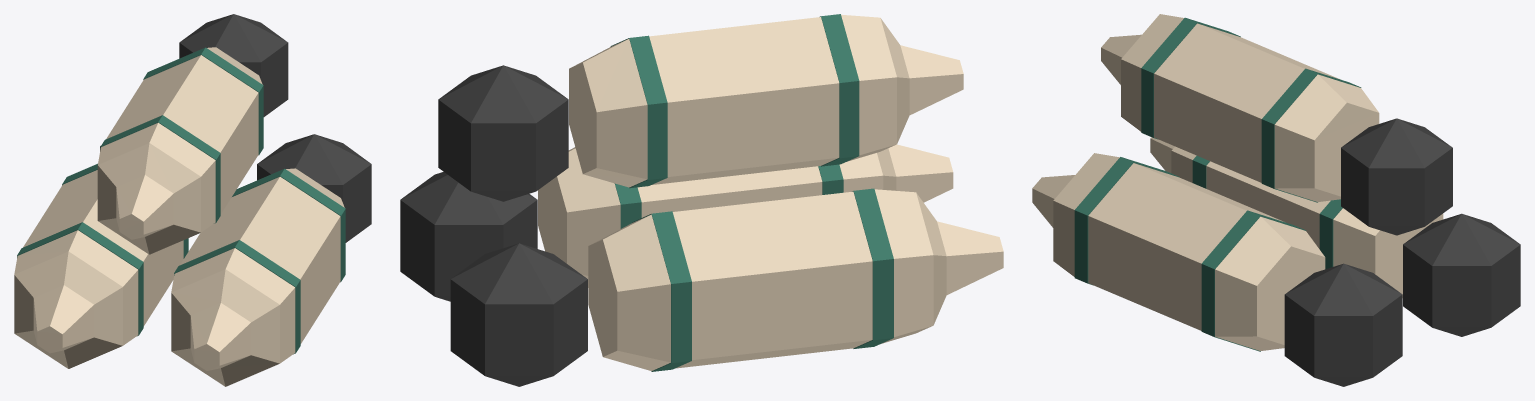
File: ce_ammo2_powder_inc_b.obj
3 renders of one model, left to right at view 1: azimuth 30°, elevation 25°; view 2: azimuth 150°, elevation 25°; view 3: azimuth 270°, elevation 25°, orthographic. The views are drawn at different scales.
Visible parts, largest first — view 1: ce_ammo2_powder_inc_b_12, ce_ammo2_powder_inc_b_20, ce_ammo2_powder_inc_b_9, ce_ammo2_powder_inc_b_1, ce_ammo2_powder_inc_b_17, ce_ammo2_powder_inc_b_15, ce_ammo2_powder_inc_b_4, ce_ammo2_powder_inc_b_23, ce_ammo2_powder_inc_b_10, ce_ammo2_powder_inc_b_2, ce_ammo2_powder_inc_b_0, ce_ammo2_powder_inc_b_8 (+10 smaller); view 2: ce_ammo2_powder_inc_b_4, ce_ammo2_powder_inc_b_20, ce_ammo2_powder_inc_b_7, ce_ammo2_powder_inc_b_23, ce_ammo2_powder_inc_b_15, ce_ammo2_powder_inc_b_6, ce_ammo2_powder_inc_b_22, ce_ammo2_powder_inc_b_14, ce_ammo2_powder_inc_b_2, ce_ammo2_powder_inc_b_12, ce_ammo2_powder_inc_b_18, ce_ammo2_powder_inc_b_3 (+12 smaller); view 3: ce_ammo2_powder_inc_b_12, ce_ammo2_powder_inc_b_20, ce_ammo2_powder_inc_b_15, ce_ammo2_powder_inc_b_7, ce_ammo2_powder_inc_b_23, ce_ammo2_powder_inc_b_14, ce_ammo2_powder_inc_b_22, ce_ammo2_powder_inc_b_6, ce_ammo2_powder_inc_b_4, ce_ammo2_powder_inc_b_10, ce_ammo2_powder_inc_b_18, ce_ammo2_powder_inc_b_11 (+9 smaller).
Boxes of the visible parts, x1,y1,x2,y2 form: ce_ammo2_powder_inc_b_12: (180, 177, 340, 343); ce_ammo2_powder_inc_b_20: (106, 55, 258, 213); ce_ammo2_powder_inc_b_9: (171, 269, 279, 386); ce_ammo2_powder_inc_b_1: (14, 251, 122, 368); ce_ammo2_powder_inc_b_17: (97, 143, 200, 254); ce_ammo2_powder_inc_b_15: (257, 134, 371, 242); ce_ammo2_powder_inc_b_4: (23, 170, 183, 326); ce_ammo2_powder_inc_b_23: (179, 14, 288, 116); ce_ammo2_powder_inc_b_10: (171, 248, 295, 363); ce_ammo2_powder_inc_b_2: (14, 230, 138, 345); ce_ammo2_powder_inc_b_0: (33, 285, 93, 353); ce_ammo2_powder_inc_b_8: (190, 303, 250, 370); ce_ammo2_powder_inc_b_4: (672, 191, 872, 368); ce_ammo2_powder_inc_b_20: (649, 17, 839, 184); ce_ammo2_powder_inc_b_7: (450, 243, 587, 386); ce_ammo2_powder_inc_b_23: (438, 65, 568, 201); ce_ammo2_powder_inc_b_15: (400, 172, 537, 301); ce_ammo2_powder_inc_b_6: (588, 214, 670, 370); ce_ammo2_powder_inc_b_22: (569, 39, 647, 187); ce_ammo2_powder_inc_b_14: (538, 147, 620, 287); ce_ammo2_powder_inc_b_2: (874, 189, 933, 343); ce_ammo2_powder_inc_b_12: (637, 166, 822, 217); ce_ammo2_powder_inc_b_18: (841, 14, 896, 161); ce_ammo2_powder_inc_b_3: (852, 188, 893, 348); ce_ammo2_powder_inc_b_12: (1088, 163, 1283, 330); ce_ammo2_powder_inc_b_20: (1154, 23, 1339, 182); ce_ammo2_powder_inc_b_15: (1284, 263, 1402, 386); ce_ammo2_powder_inc_b_7: (1403, 213, 1520, 336); ce_ammo2_powder_inc_b_23: (1341, 118, 1452, 235); ce_ammo2_powder_inc_b_14: (1215, 216, 1325, 350); ce_ammo2_powder_inc_b_22: (1274, 74, 1379, 201); ce_ammo2_powder_inc_b_6: (1333, 208, 1443, 297); ce_ammo2_powder_inc_b_4: (1206, 161, 1330, 248); ce_ammo2_powder_inc_b_10: (1053, 153, 1119, 276); ce_ammo2_powder_inc_b_18: (1121, 14, 1183, 131); ce_ammo2_powder_inc_b_11: (1074, 157, 1179, 285).
Bounding box in the file's own units: 0.7767 × 0.4501 × 0.7894.
